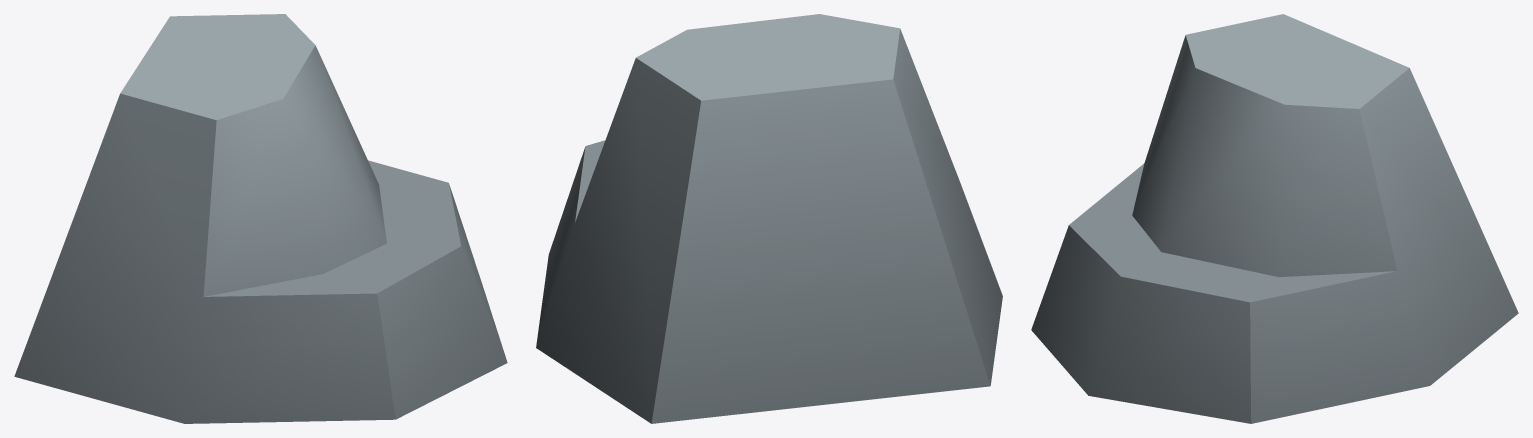
Rendered from rock_alpine.glb.
The picture shows the model from 3 angles, left to right: view 1: azimuth 30°, elevation 25°; view 2: azimuth 150°, elevation 25°; view 3: azimuth 270°, elevation 25°; orthographic projection. The views are drawn at different scales.
Parts seen in each view (by area): view 1: rock_alpine; view 2: rock_alpine; view 3: rock_alpine.
Boxes of the visible parts, x1,y1,x2,y2 form: rock_alpine: (14,14,507,423); rock_alpine: (536,14,1002,423); rock_alpine: (1031,14,1518,423).
Bounding box in the file's own units: 2.82 × 1.6 × 2.83.
1 material, 1 textured.
